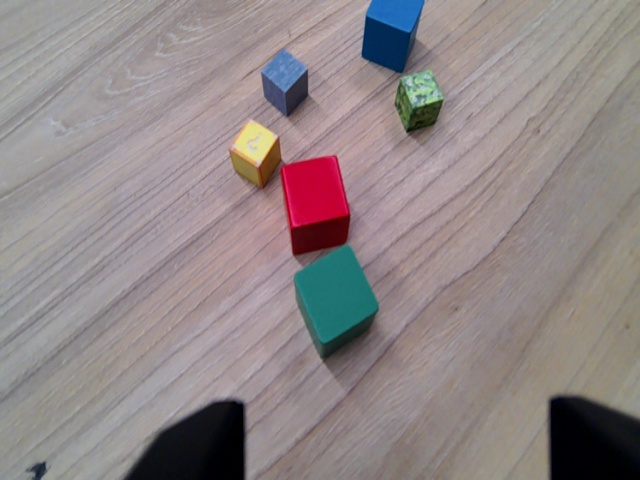grass: (390, 67, 445, 135)
lucky: (224, 117, 285, 190)
stone: (255, 48, 312, 121)
